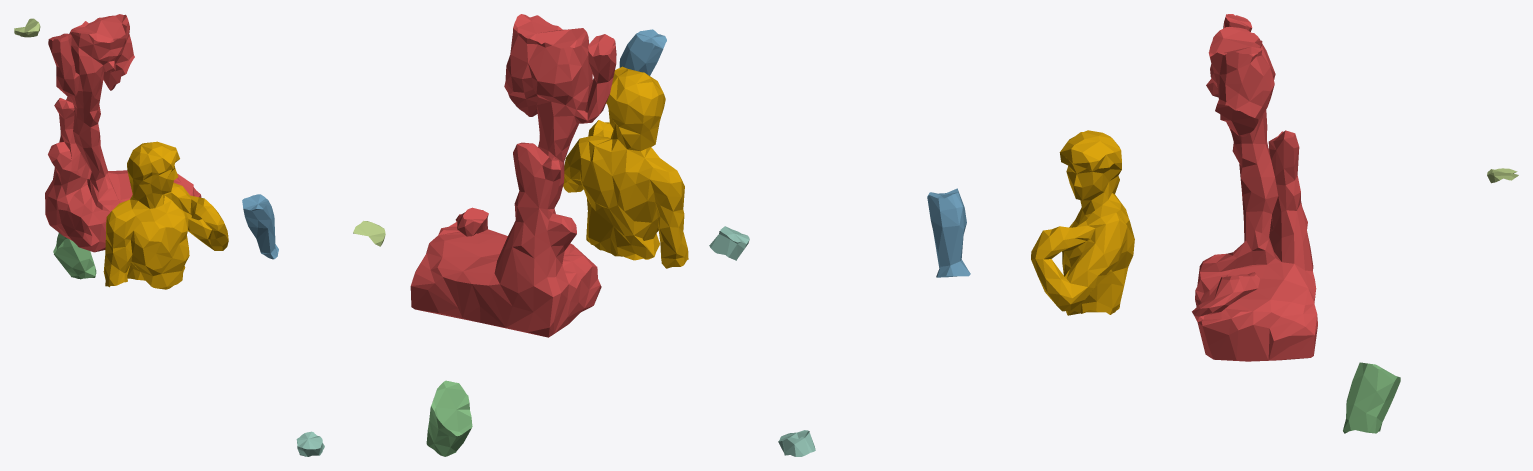
File: fractured_52_6pcs_transformed.glb
3 renders of one model, left to right at view 1: azimuth 30°, elevation 25°; view 2: azimuth 150°, elevation 25°; view 3: azimuth 270°, elevation 25°, orthographic. The views are drawn at different scales.
Visible parts, largest first — view 1: piece_1.obj, piece_0.obj, piece_2.obj, piece_3.obj, piece_4.obj, piece_5.obj; view 2: piece_1.obj, piece_0.obj, piece_3.obj, piece_2.obj, piece_4.obj, piece_5.obj; view 3: piece_1.obj, piece_0.obj, piece_3.obj, piece_2.obj, piece_4.obj.
Boxes of the visible parts, x1,y1,x2,y2 form: piece_1.obj: (45, 14, 201, 252); piece_0.obj: (103, 141, 228, 289); piece_2.obj: (242, 194, 278, 259); piece_3.obj: (53, 233, 96, 279); piece_4.obj: (296, 431, 324, 456); piece_5.obj: (14, 18, 40, 37); piece_1.obj: (410, 14, 616, 337); piece_0.obj: (563, 66, 688, 268); piece_3.obj: (426, 380, 472, 456); piece_2.obj: (619, 29, 666, 75); piece_4.obj: (709, 226, 749, 260); piece_5.obj: (353, 221, 385, 246); piece_1.obj: (1192, 14, 1317, 361); piece_0.obj: (1031, 130, 1134, 315); piece_3.obj: (1343, 362, 1400, 433); piece_2.obj: (927, 188, 970, 277); piece_4.obj: (778, 430, 815, 456).
Size of the model in its own units: 0.4197 by 0.9237 by 1.56.
